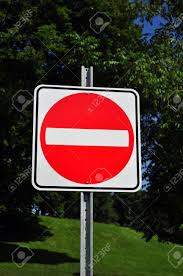crop: (30, 83, 145, 194)
